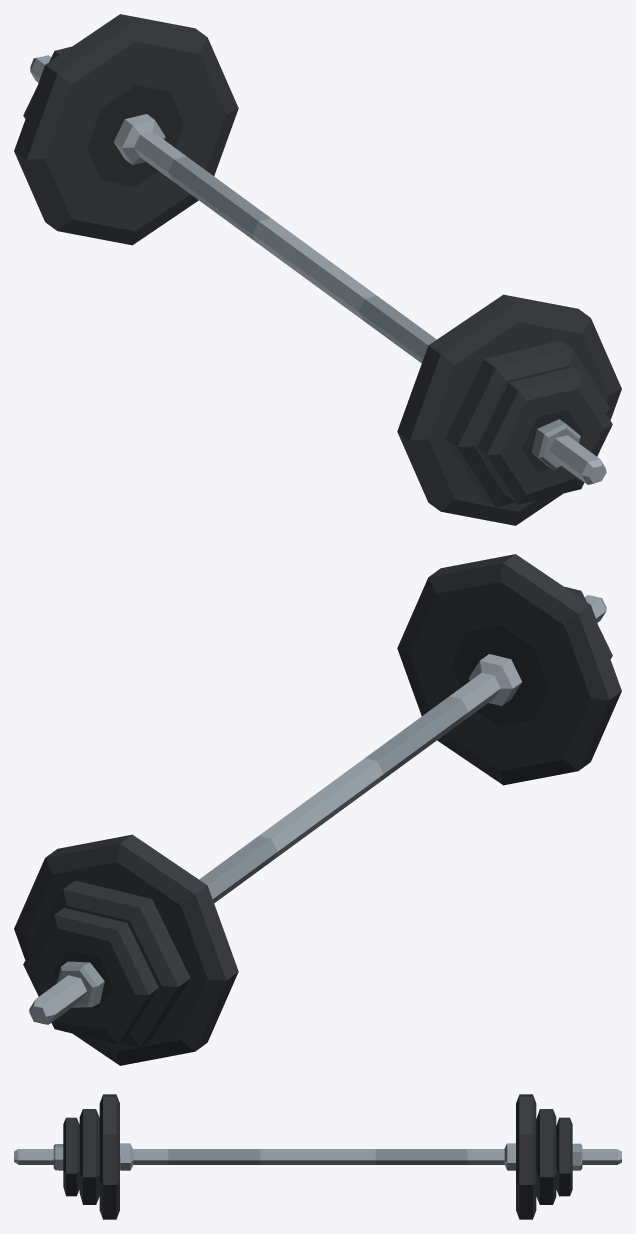
The model's file is SM_Prop_Bar_Bell_02.fbx.
3 views of the same model, one above another, from view 1: azimuth 30°, elevation 25°; view 2: azimuth 150°, elevation 25°; view 3: azimuth 270°, elevation 25° (orthographic). The views are drawn at different scales.
Visible parts, largest first — view 1: SM_Prop_Bar_Bell_02; view 2: SM_Prop_Bar_Bell_02; view 3: SM_Prop_Bar_Bell_02.
Part boxes in pixels (left/top/right/bottom): SM_Prop_Bar_Bell_02: left=14, top=14, right=621, bottom=525; SM_Prop_Bar_Bell_02: left=14, top=554, right=621, bottom=1065; SM_Prop_Bar_Bell_02: left=14, top=1094, right=621, bottom=1219.
Size of the model in its own units: 40.46 by 40.46 by 185.
